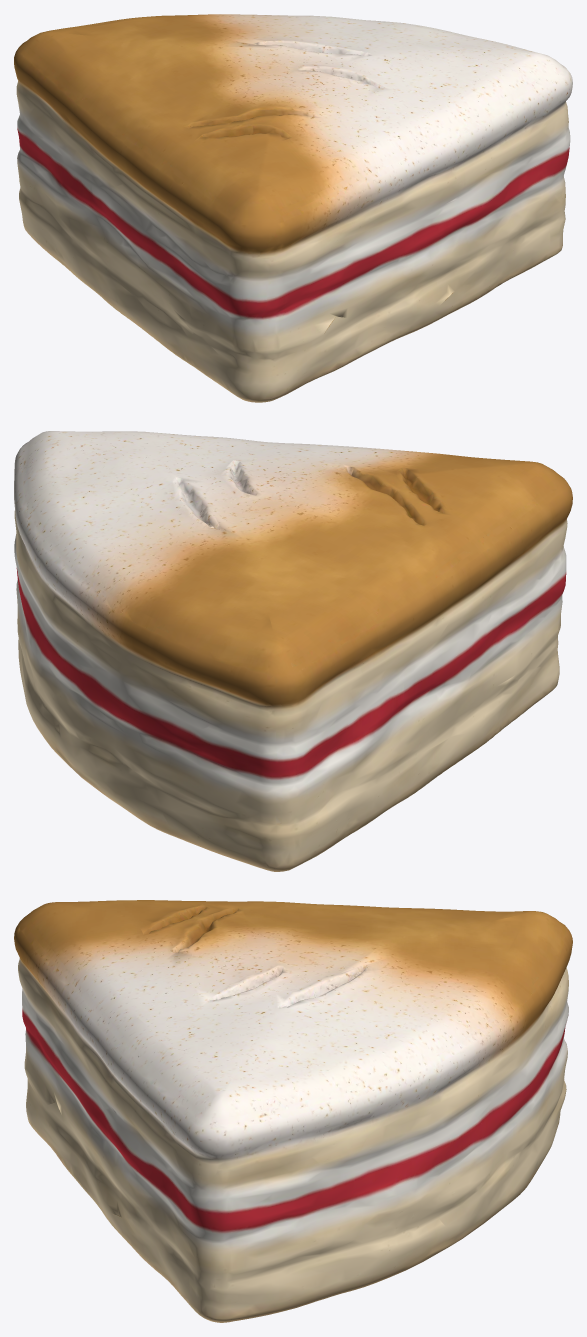
Rendered from scone--strawberry-fresh.glb.
The picture shows the model from 3 angles, top to bottom: view 1: azimuth 30°, elevation 25°; view 2: azimuth 150°, elevation 25°; view 3: azimuth 270°, elevation 25°; orthographic projection. The views are drawn at different scales.
Visible parts, largest first — view 1: scone_strawberry-fresh; view 2: scone_strawberry-fresh; view 3: scone_strawberry-fresh.
Boxes of the visible parts, x1=… form: scone_strawberry-fresh: x1=14, y1=14, x2=572, y2=402; scone_strawberry-fresh: x1=14, y1=431, x2=572, y2=871; scone_strawberry-fresh: x1=14, y1=900, x2=572, y2=1322.
Size of the model in its own units: 0.9382 by 0.4669 by 0.9869.
1 material, 1 textured.
